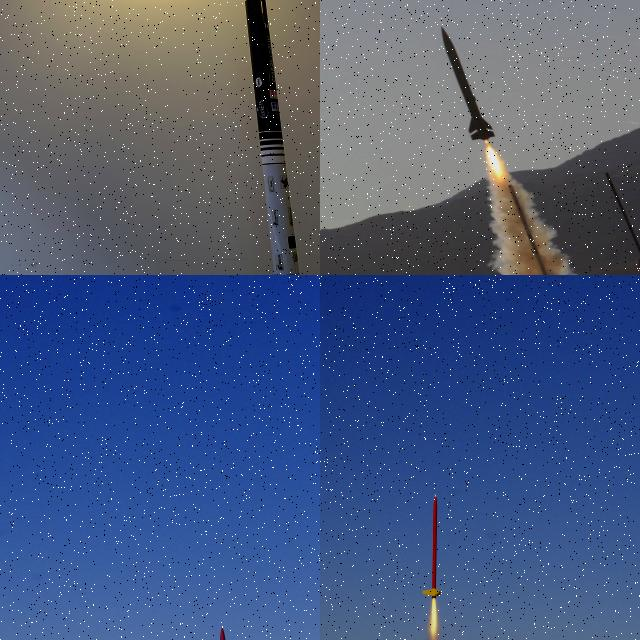Rocket: (245, 0, 300, 275), (438, 27, 497, 142), (422, 494, 442, 599)
